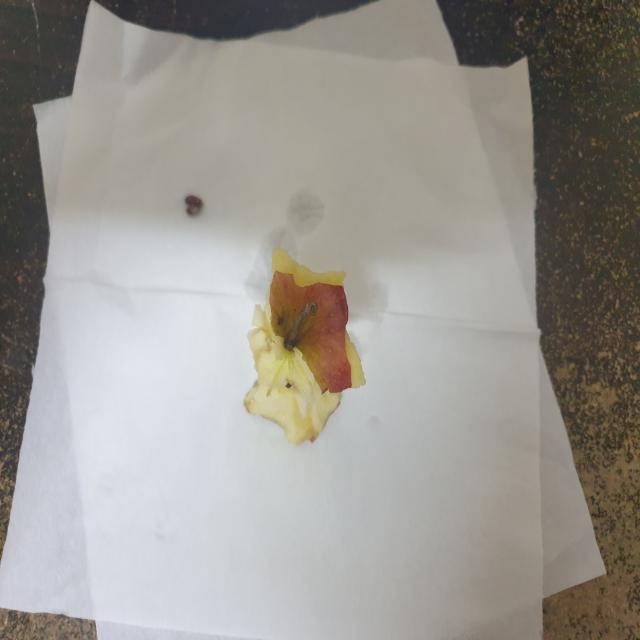apple: (237, 235, 382, 466)
